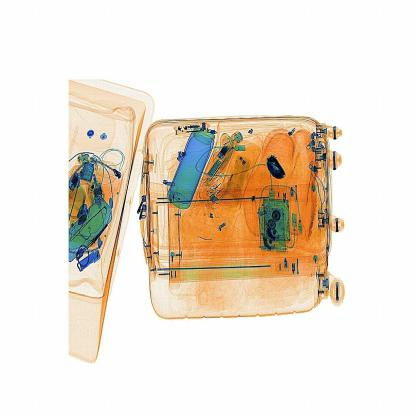scissors: (264, 152, 289, 186)
